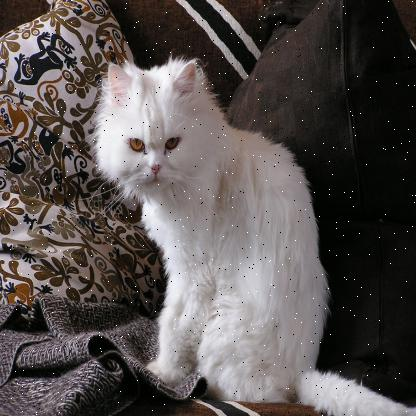cat: (97, 48, 339, 403)
